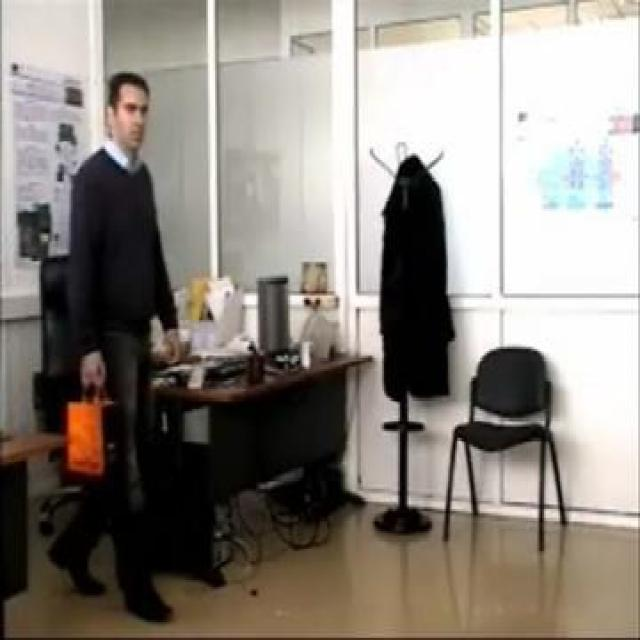other: (59, 397, 101, 472)
